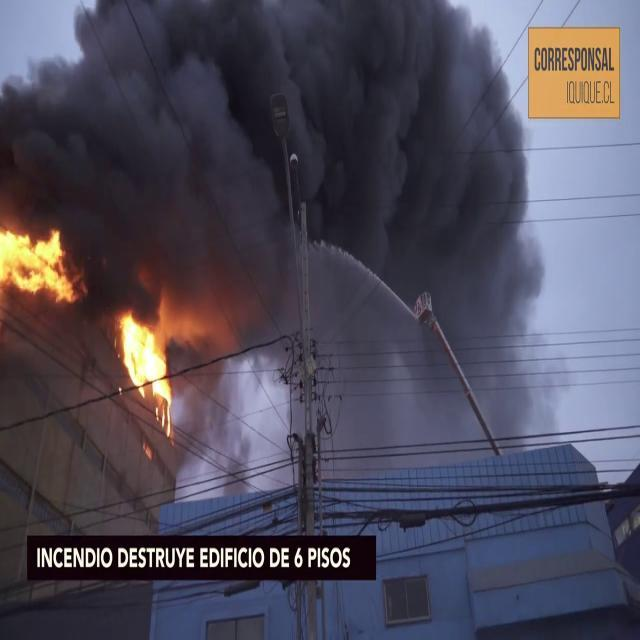Fire: (112, 301, 184, 421), (0, 218, 74, 302)
Smoke: (0, 0, 552, 344), (323, 0, 569, 487)
